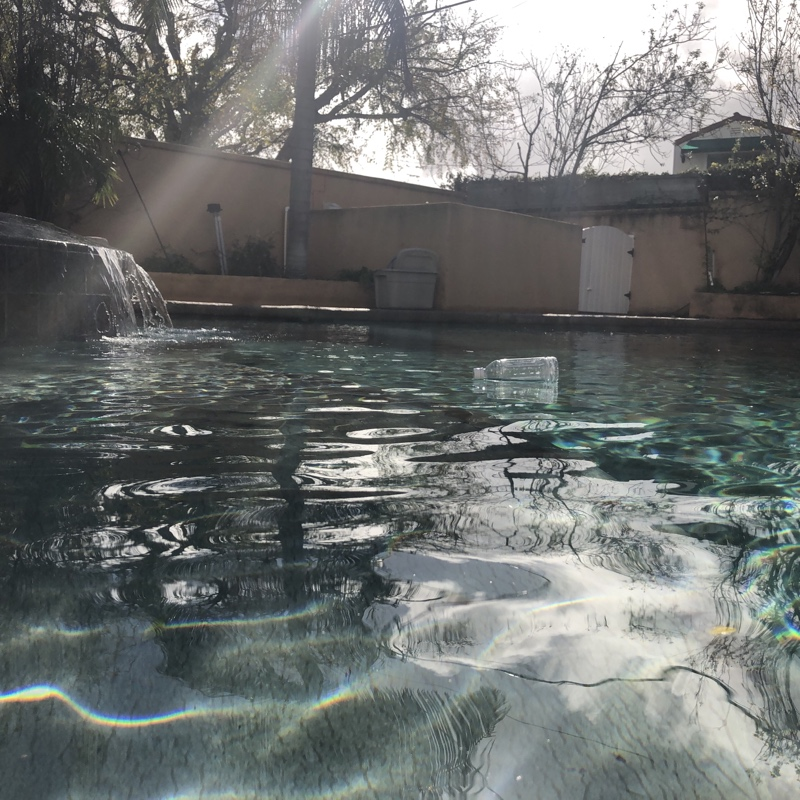Plastic Bottle: (466, 354, 564, 397)
